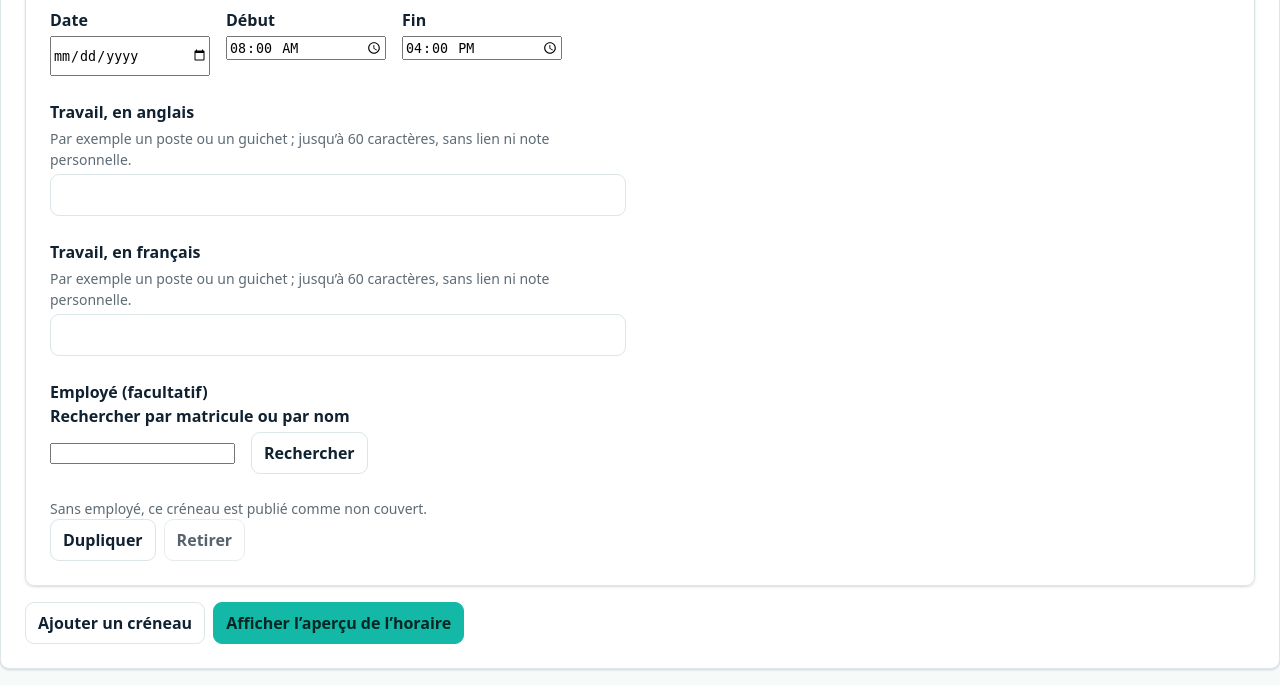
Test: MVP-050A schedules (fr) › names the problems of an incomplete schedule and focuses them
(page scrolled)
Click the button "Afficher l’aperçu de l’horaire" at (339, 623), box [213, 602, 464, 644]
(page scrolled)
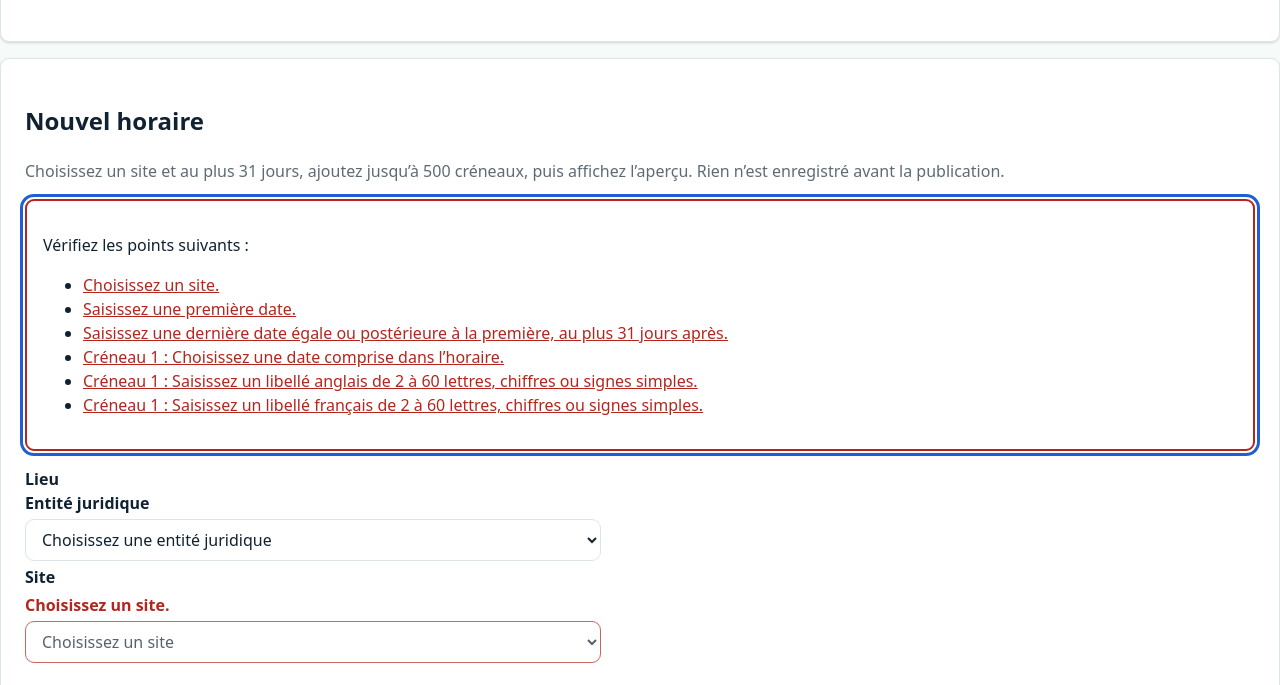
Check: the message with test id "create-problems" shows "Choisissez un site.", box [83, 274, 219, 296]
Check: the message with test id "create-problems" shows "Saisissez une première date.", box [83, 298, 296, 320]
